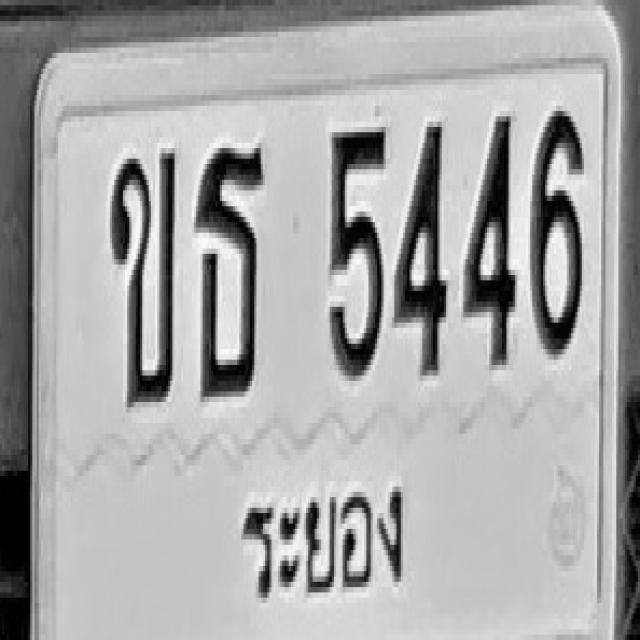11KhorKhai: (108, 146, 176, 404)
33ThorThong: (195, 138, 264, 396)
4: (394, 117, 446, 370), (463, 109, 515, 362)
5: (328, 122, 386, 376)
6: (531, 103, 583, 352)
Rayong: (233, 458, 410, 613)
